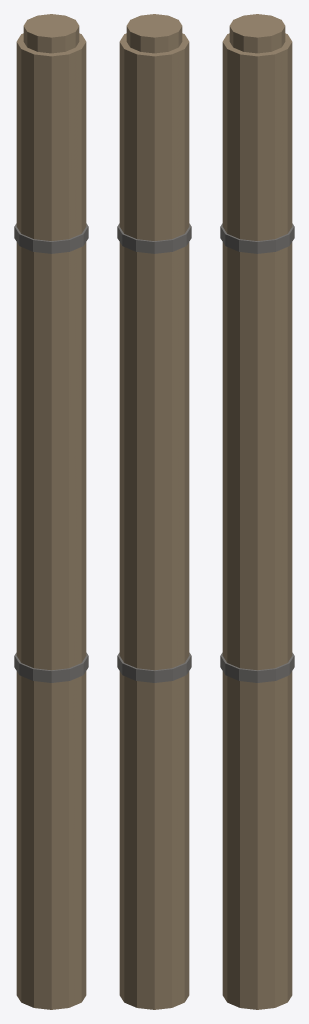
File: dm_dockpile.glb
3 renders of one model, left to right at view 1: azimuth 90°, elevation 25°; view 2: azimuth 150°, elevation 25°; view 3: azimuth 270°, elevation 25°, orthographic.
Parts seen in each view (by area): view 1: dm_dockpile; view 2: dm_dockpile; view 3: dm_dockpile.
Boxes of the visible parts, x1=… form: dm_dockpile: x1=14, y1=14, x2=88, y2=1009; dm_dockpile: x1=117, y1=14, x2=191, y2=1009; dm_dockpile: x1=220, y1=14, x2=294, y2=1009.
Size of the model in its own units: 0.3392 by 4.9 by 0.3392.
